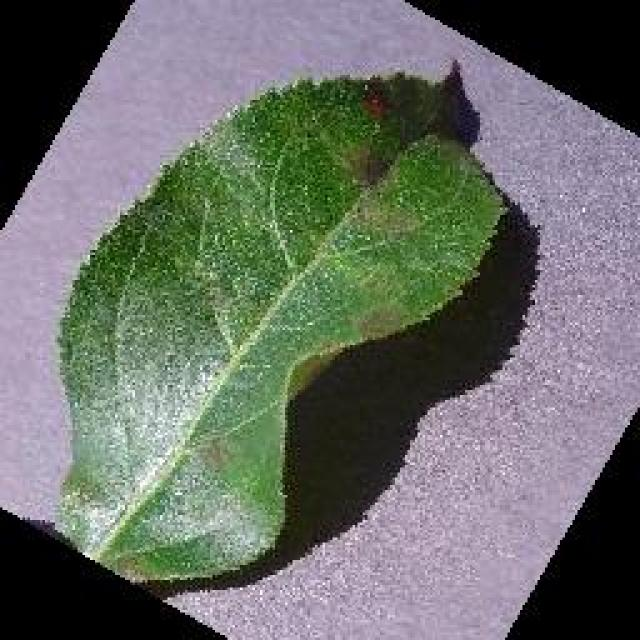apple scab disease: (50, 58, 510, 590)
